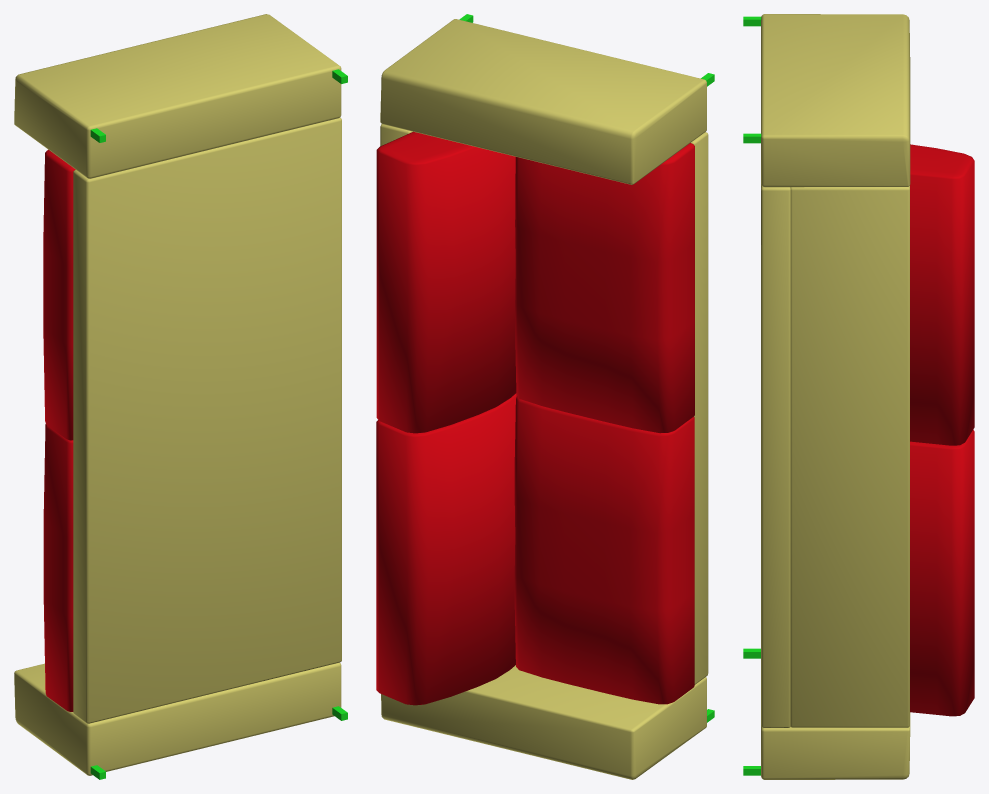
The model's file is sofa_2.FBX.
3 renders of one model, left to right at view 1: azimuth 30°, elevation 25°; view 2: azimuth 150°, elevation 25°; view 3: azimuth 270°, elevation 25°, orthographic.
Visible parts, largest first — view 1: base; view 2: base; view 3: base.
Boxes of the visible parts, x1,y1,x2,y2 form: base: (14,14,347,779); base: (376,14,714,779); base: (743,14,974,779).
Bounding box in the file's own units: 100 × 240 × 78.12.
